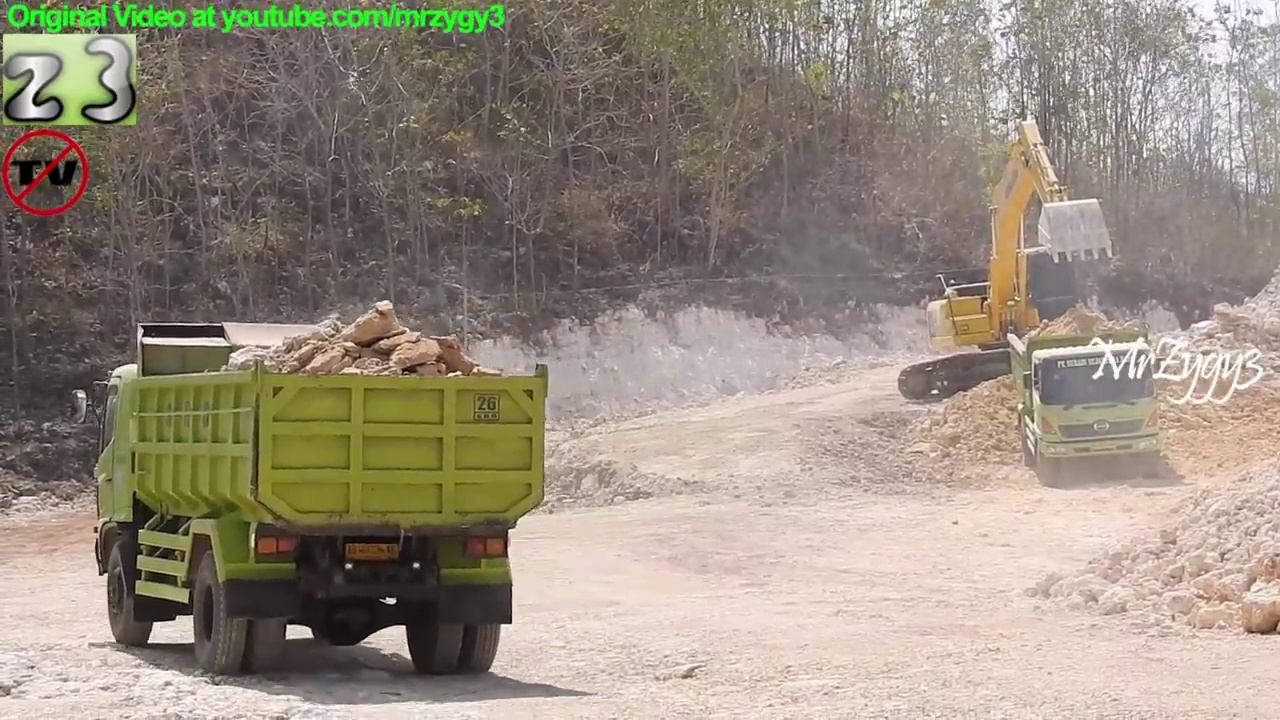excavator: (893, 110, 1155, 407)
truck: (64, 316, 557, 682), (1002, 321, 1169, 488)
